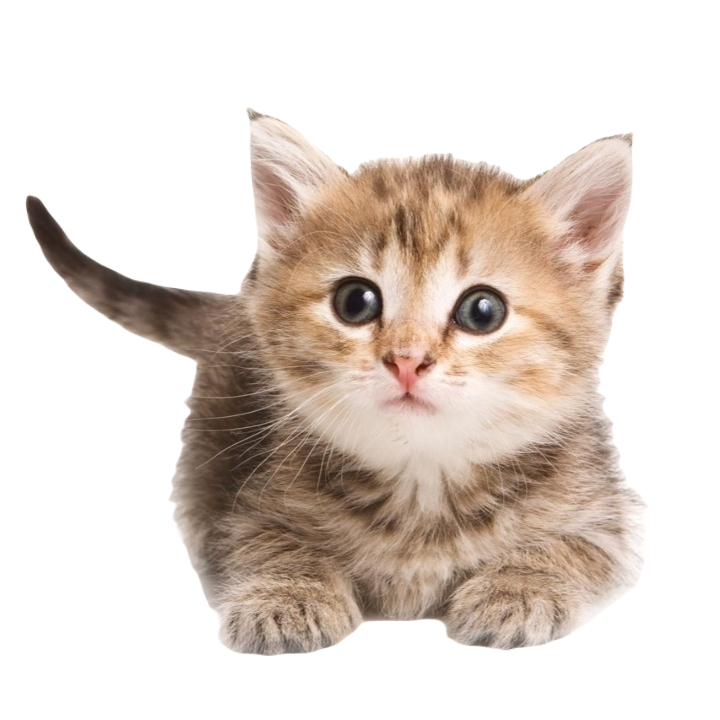Cat: (16, 82, 661, 659)
